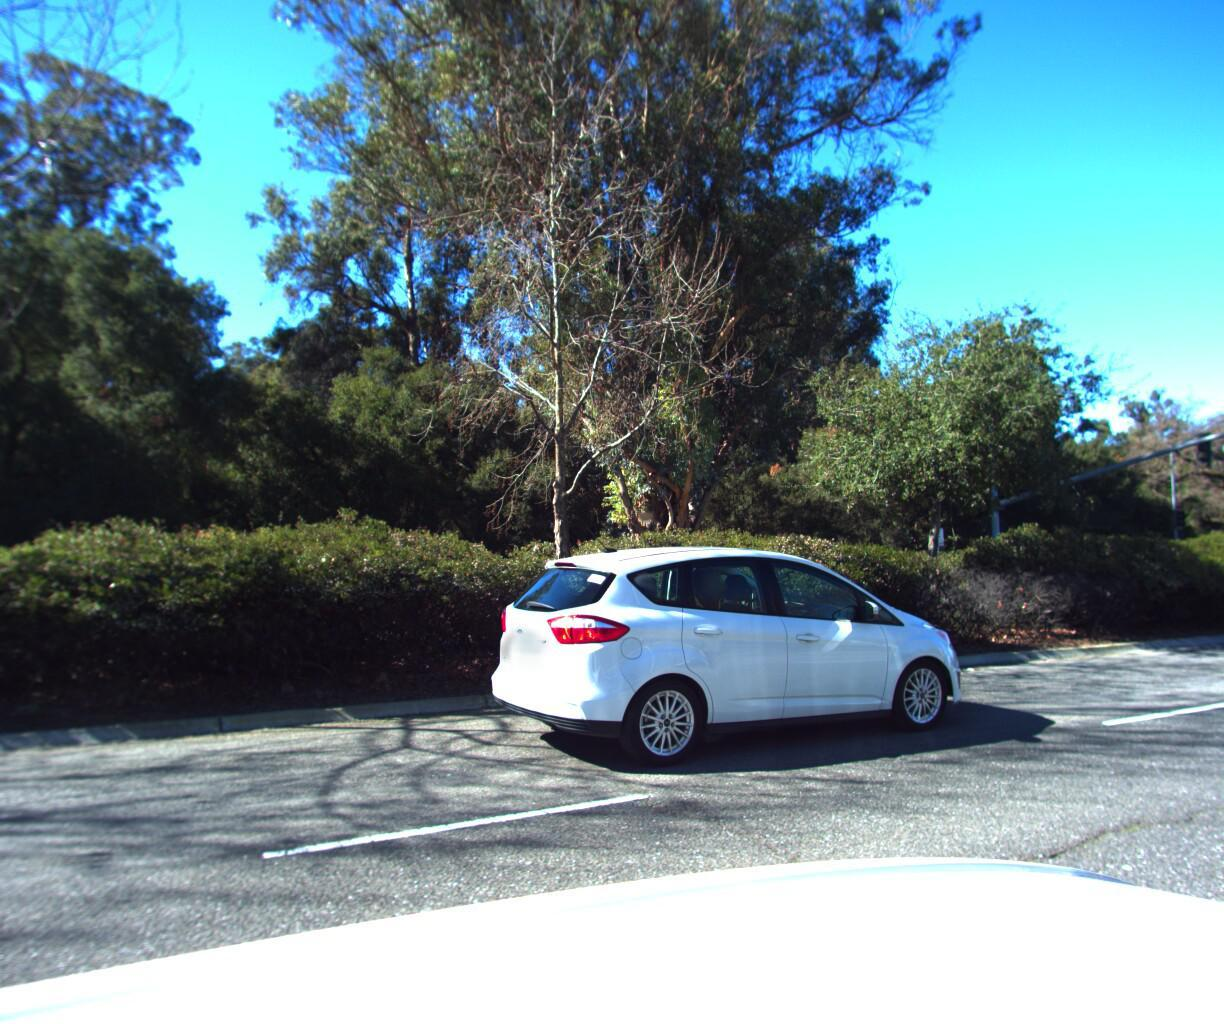car: (472, 530, 1008, 786)
